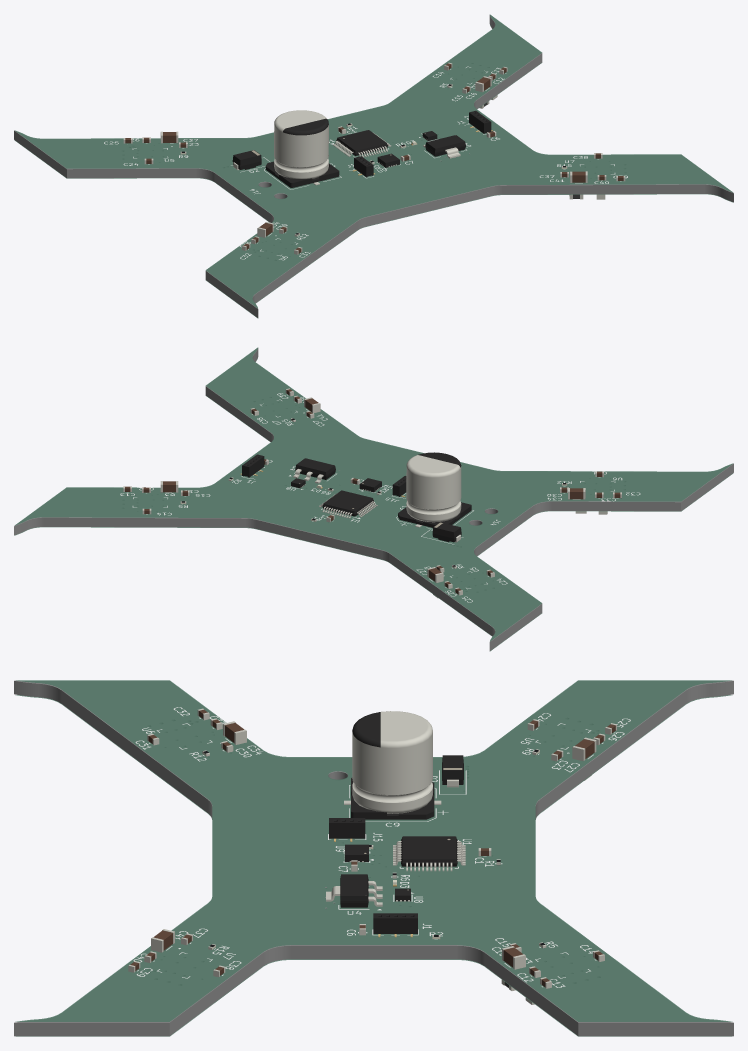
File: neodrone-v1.glb
The picture shows the model from 3 angles, top to bottom: view 1: azimuth 30°, elevation 25°; view 2: azimuth 150°, elevation 25°; view 3: azimuth 270°, elevation 25°; orthographic projection. The views are drawn at different scales.
Visible parts, largest first — view 1: =>[0:1:1:21], =>[0:1:1:19], C9, =>[0:1:1:17], U1, =>[0:1:1:20], U4; view 2: =>[0:1:1:21], =>[0:1:1:19], C9, =>[0:1:1:17], U1, =>[0:1:1:20], U4; view 3: =>[0:1:1:21], =>[0:1:1:19], C9, =>[0:1:1:17], U1, U4, =>[0:1:1:20], J1, J15, D2.
Boxes of the visible parts, bbox=[...] form: =>[0:1:1:21]: bbox=[14, 15, 733, 317]; =>[0:1:1:19]: bbox=[14, 14, 733, 308]; C9: bbox=[265, 110, 339, 187]; =>[0:1:1:17]: bbox=[104, 66, 627, 260]; U1: bbox=[333, 130, 391, 157]; =>[0:1:1:20]: bbox=[14, 25, 733, 318]; U4: bbox=[423, 135, 465, 158]; =>[0:1:1:21]: bbox=[14, 348, 733, 650]; =>[0:1:1:19]: bbox=[14, 347, 733, 641]; C9: bbox=[398, 452, 471, 527]; =>[0:1:1:17]: bbox=[120, 393, 640, 602]; U1: bbox=[319, 490, 377, 518]; =>[0:1:1:20]: bbox=[14, 358, 733, 651]; U4: bbox=[293, 458, 335, 483]; =>[0:1:1:21]: bbox=[14, 680, 733, 1036]; =>[0:1:1:19]: bbox=[15, 680, 732, 1021]; C9: bbox=[344, 711, 441, 819]; =>[0:1:1:17]: bbox=[133, 707, 630, 987]; U1: bbox=[393, 836, 465, 871]; U4: bbox=[326, 874, 382, 907]; =>[0:1:1:20]: bbox=[15, 695, 732, 1036]; J1: bbox=[373, 913, 417, 937]; J15: bbox=[329, 818, 365, 841]; D2: bbox=[442, 755, 463, 787].
Size of the model in its own units: 0.1 by 0.0142 by 0.089.
